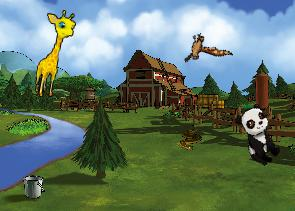eagle: (175, 23, 233, 75)
giraffe: (32, 7, 78, 101)
panda: (231, 102, 286, 169)
